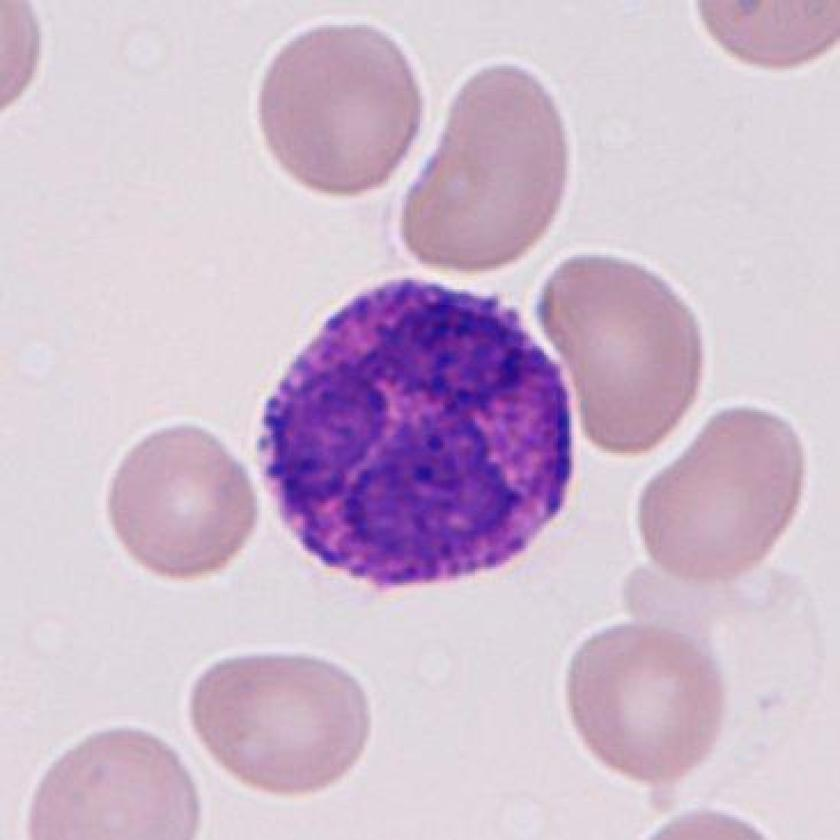basophil: (251, 265, 589, 611)
